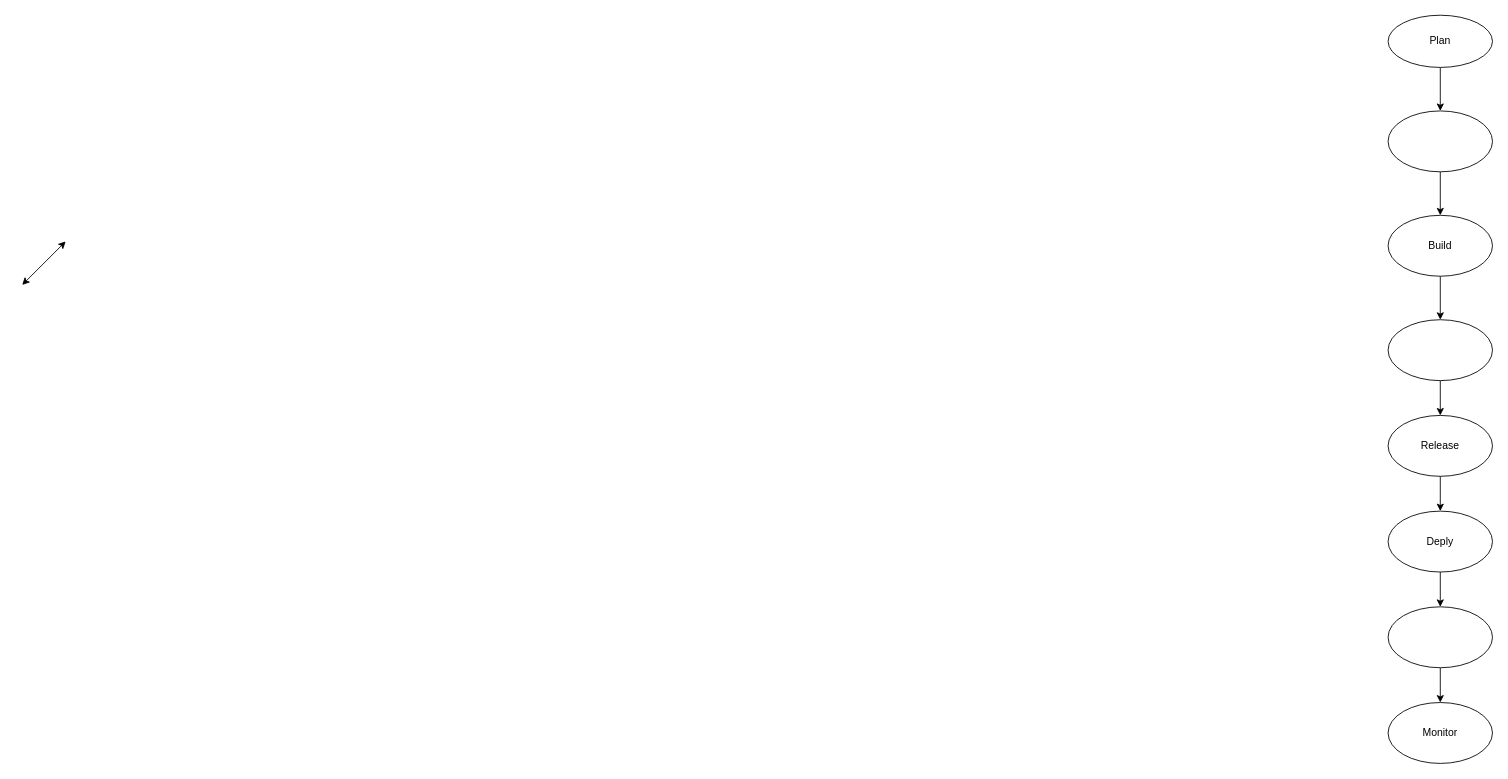
This 1508x779 diagram has some shape labels left out. The centre of each missing label's shape, as x and y in pixels:
"Develop" goes at point 1439,141.
"Operate" goes at point 1439,637.
"Test" goes at point 1439,350.
